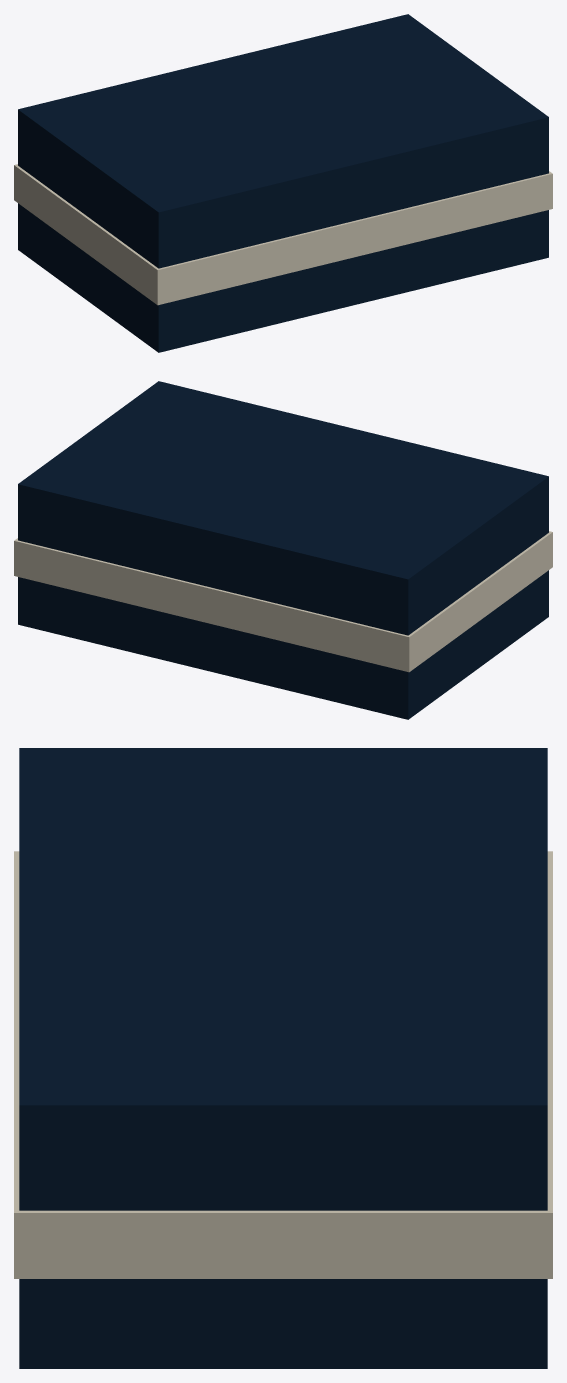
File: SM_Prop_AmmoBox_556.glb
3 views of the same model, one above another, from view 1: azimuth 30°, elevation 25°; view 2: azimuth 150°, elevation 25°; view 3: azimuth 270°, elevation 25° (orthographic). The views are drawn at different scales.
Visible parts, largest first — view 1: SM_Prop_AmmoBox_556; view 2: SM_Prop_AmmoBox_556; view 3: SM_Prop_AmmoBox_556.
Boxes of the visible parts, x1,y1,x2,y2 form: SM_Prop_AmmoBox_556: (14,14,552,352); SM_Prop_AmmoBox_556: (14,381,552,719); SM_Prop_AmmoBox_556: (14,748,552,1368).
Size of the model in its own units: 0.162 by 0.055 by 0.102.
1 material, 1 textured.
